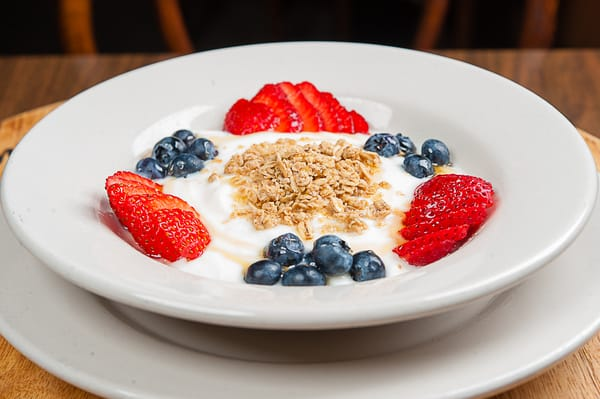sushi: (16, 39, 598, 384)
